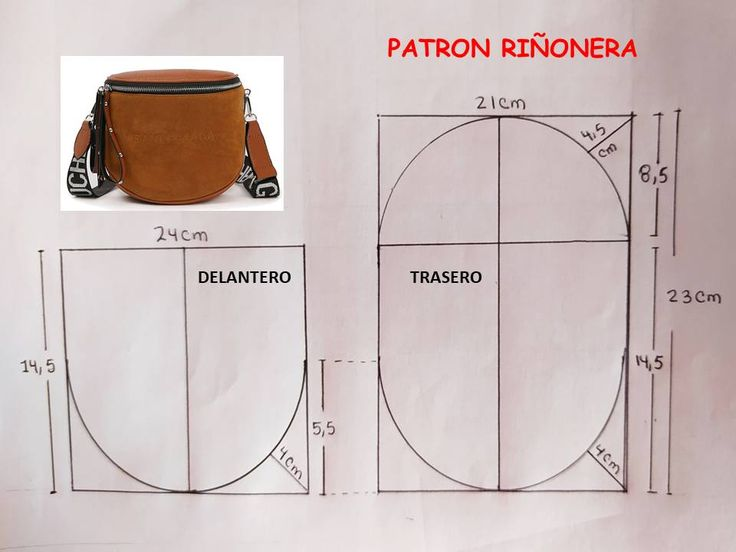cuero: (73, 69, 276, 206)
